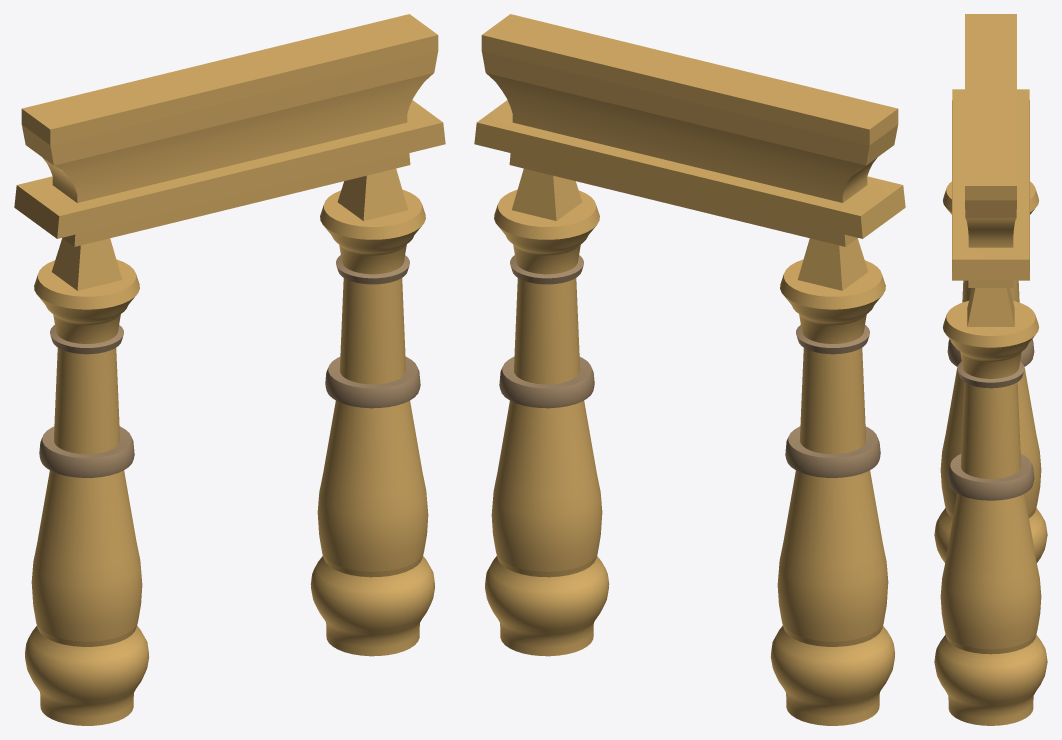
Rendered from newpillar.fbx.
3 renders of one model, left to right at view 1: azimuth 30°, elevation 25°; view 2: azimuth 150°, elevation 25°; view 3: azimuth 270°, elevation 25°, orthographic. The views are drawn at different scales.
Visible parts, largest first — view 1: pillar top, pillar, pillar_2; view 2: pillar top, pillar, pillar_2; view 3: pillar_2, pillar top, pillar.
Part boxes in pixels (bbox=[...]): pillar top: bbox=[14, 14, 445, 246]; pillar: bbox=[25, 238, 149, 725]; pillar_2: bbox=[310, 168, 434, 656]; pillar top: bbox=[474, 14, 905, 246]; pillar: bbox=[770, 238, 894, 725]; pillar_2: bbox=[485, 168, 609, 656]; pillar_2: bbox=[934, 288, 1047, 725]; pillar top: bbox=[952, 14, 1029, 287]; pillar: bbox=[934, 181, 1047, 562].
Size of the model in its own units: 356 by 517 by 97.47.
